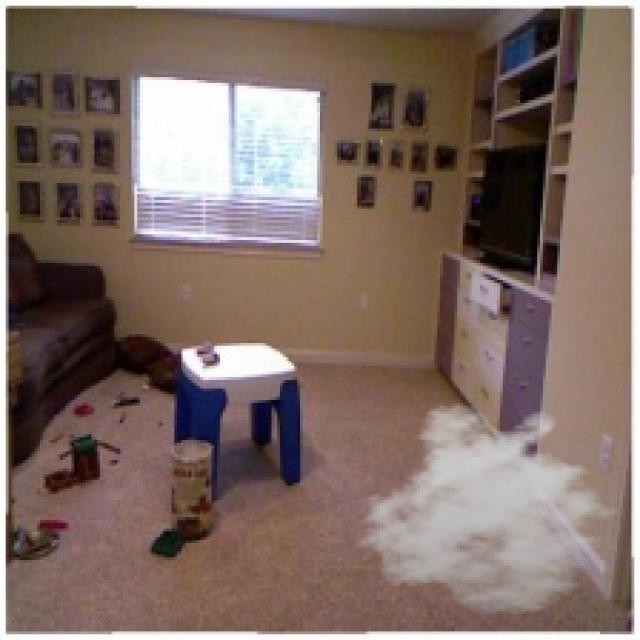smoke: (354, 403, 634, 617)
